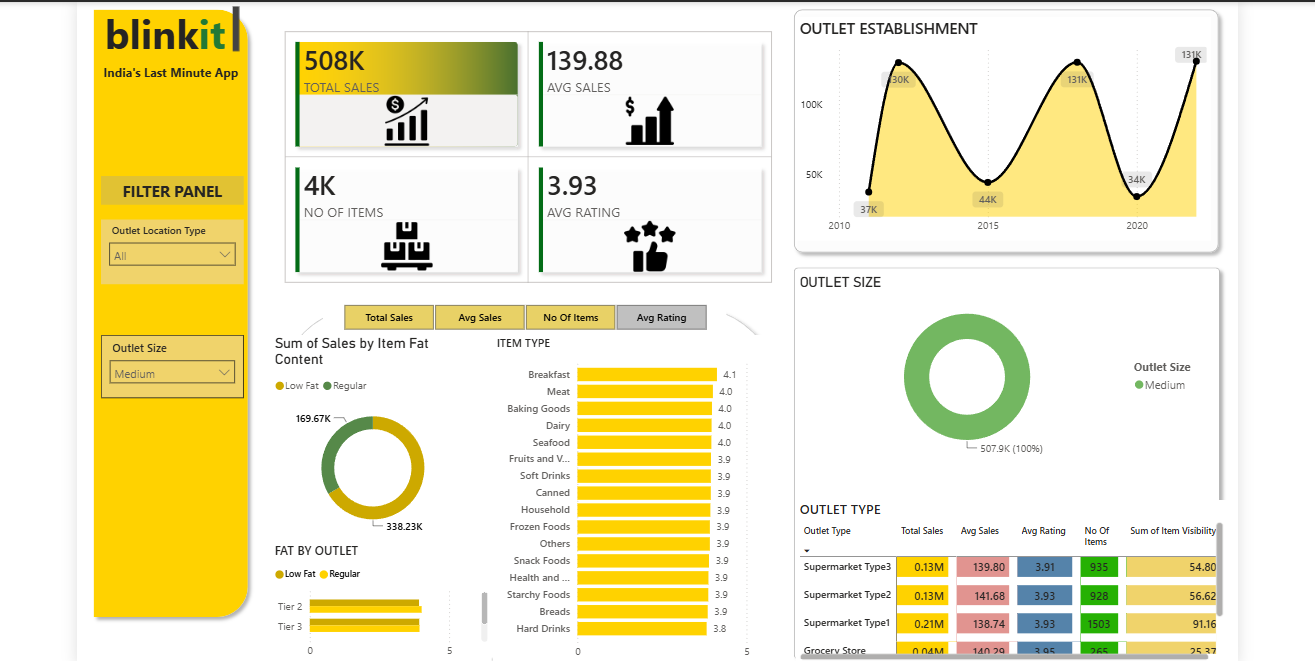

The page's visual inventory and layout, read from the dashboard file:
{"tool":"powerbi","page":{"name":"Page 1","canvas":[1400,800],"ordinal":0},"visuals":[{"type":"shape","box":[10,0,204,750],"z":0},{"type":"textbox","box":[28.9,0,171.7,68.7],"z":1000},{"type":"textbox","box":[10.3,68.2,204.6,37.2],"z":2000},{"type":"cardVisual","fields":{"Data":["BlinkIT Grocery Data.Total Sales","BlinkIT Grocery Data.Avg Sales","BlinkIT Grocery Data.No Of Items","BlinkIT Grocery Data.Avg Rating"]},"box":[233.6,18.6,622.2,339],"z":3000},{"type":"shape","box":[233.6,357.6,622.2,442.3],"z":4000},{"type":"donutChart","fields":{"Y":["Sum(BlinkIT Grocery Data.Sales)"],"Category":["BlinkIT Grocery Data.Item Fat Content"]},"box":[233.6,401,246,250.1],"z":5000},{"type":"slicer","fields":{"Values":["Metrics.Metrics"]},"box":[295.6,357.6,485.7,43.4],"z":6000},{"type":"clusteredBarChart","title":" FAT BY OUTLET","fields":{"Y":["BlinkIT Grocery Data.Avg Rating"],"Category":["BlinkIT Grocery Data.Outlet Location Type"],"Series":["BlinkIT Grocery Data.Item Fat Content"]},"box":[233.6,651.1,266.6,148.8],"z":7000},{"type":"shape","box":[866,18.6,270.8,16.5],"z":8000},{"type":"barChart","title":"ITEM TYPE","fields":{"Y":["BlinkIT Grocery Data.Avg Rating"],"Category":["BlinkIT Grocery Data.Item Type"]},"box":[500.2,401,355.5,398.9],"z":9000},{"type":"shape","box":[854.8,0,529.5,310.9],"z":10000},{"type":"lineChart","title":"OUTLET ESTABLISHMENT","fields":{"Y":["BlinkIT Grocery Data.Total Sales"],"Category":["BlinkIT Grocery Data.Outlet Establishment Year"]},"box":[865.7,18.1,500.6,269.3],"z":11000},{"type":"shape","box":[855.7,310,531.2,489.9],"z":12000},{"type":"donutChart","title":"OUTLET SIZE","fields":{"Y":["BlinkIT Grocery Data.Total Sales"],"Category":["BlinkIT Grocery Data.Outlet Size"]},"box":[865.7,327.1,498.8,227.7],"z":13000},{"type":"pivotTable","title":"OUTLET TYPE","fields":{"Rows":["BlinkIT Grocery Data.Outlet Type"],"Values":["BlinkIT Grocery Data.Total Sales","BlinkIT Grocery Data.Avg Sales","BlinkIT Grocery Data.Avg Rating","BlinkIT Grocery Data.No Of Items","Sum(BlinkIT Grocery Data.Item Visibility)"]},"box":[865.7,600,520.5,198.8],"z":14000},{"type":"slicer","fields":{"Values":["BlinkIT Grocery Data.Outlet Location Type"]},"box":[28.9,262.1,171.7,77.7],"z":15000},{"type":"slicer","fields":{"Values":["BlinkIT Grocery Data.Outlet Size"]},"box":[28.9,401.2,171.7,75.9],"z":16000},{"type":"textbox","box":[28.9,209.6,171.7,34.3],"z":17000}]}

Visuals, with their boxes on the page's 1400x800 design canvas (x1, y1, x2, y2). These are canvas units, not pixel positions in the 1315x661 screenshot, which may show the page scaled, cropped or inside an application window:
shape: (10, 0, 214, 750)
textbox: (29, 0, 201, 69)
textbox: (10, 68, 215, 105)
cardVisual - BlinkIT Grocery Data.Total Sales x BlinkIT Grocery Data.Avg Sales: (234, 19, 856, 358)
shape: (234, 358, 856, 800)
donutChart - Sum(BlinkIT Grocery Data.Sales) x BlinkIT Grocery Data.Item Fat Content: (234, 401, 480, 651)
slicer - Metrics.Metrics: (296, 358, 781, 401)
" FAT BY OUTLET" clusteredBarChart: (234, 651, 500, 800)
shape: (866, 19, 1137, 35)
"ITEM TYPE" barChart: (500, 401, 856, 800)
shape: (855, 0, 1384, 311)
"OUTLET ESTABLISHMENT" lineChart: (866, 18, 1366, 287)
shape: (856, 310, 1387, 800)
"OUTLET SIZE" donutChart: (866, 327, 1364, 555)
"OUTLET TYPE" pivotTable: (866, 600, 1386, 799)
slicer - BlinkIT Grocery Data.Outlet Location Type: (29, 262, 201, 340)
slicer - BlinkIT Grocery Data.Outlet Size: (29, 401, 201, 477)
textbox: (29, 210, 201, 244)
